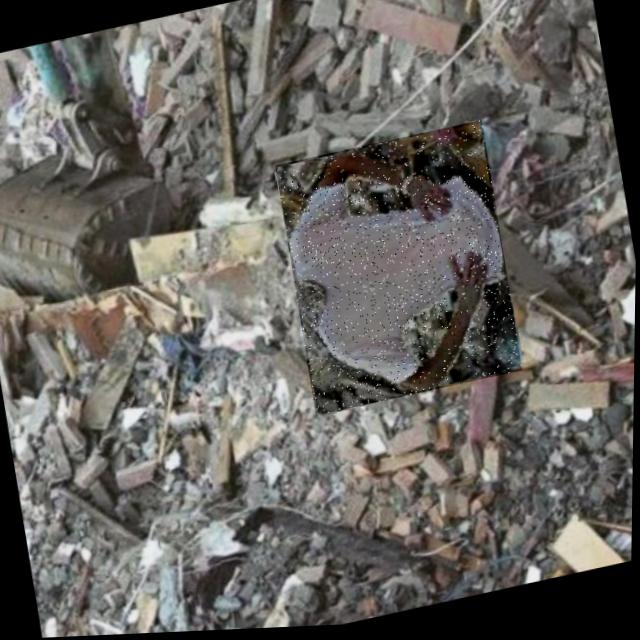Person in Rubble: (273, 122, 526, 418)
